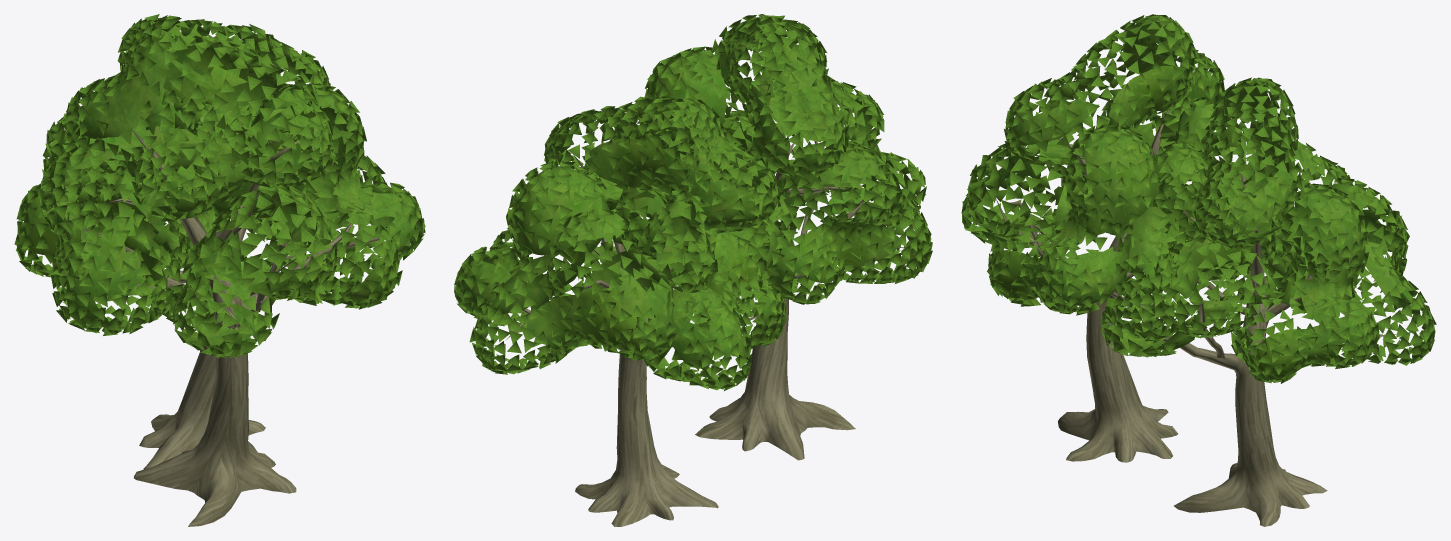
Rendered from SM_ENV_LKNVLD_Tree_D.FBX.
3 views of the same model, side by side, from view 1: azimuth 30°, elevation 25°; view 2: azimuth 150°, elevation 25°; view 3: azimuth 270°, elevation 25° (orthographic). The views are drawn at different scales.
Visible parts, largest first — view 1: SM_ENV_LKNVLD_Tree_D; view 2: SM_ENV_LKNVLD_Tree_D; view 3: SM_ENV_LKNVLD_Tree_D.
Boxes of the visible parts, <box> form: SM_ENV_LKNVLD_Tree_D: <box>14,14,425,526</box>; SM_ENV_LKNVLD_Tree_D: <box>454,14,932,526</box>; SM_ENV_LKNVLD_Tree_D: <box>961,14,1436,526</box>.
Bounding box in the file's own units: 1200 × 1484 × 1426.
